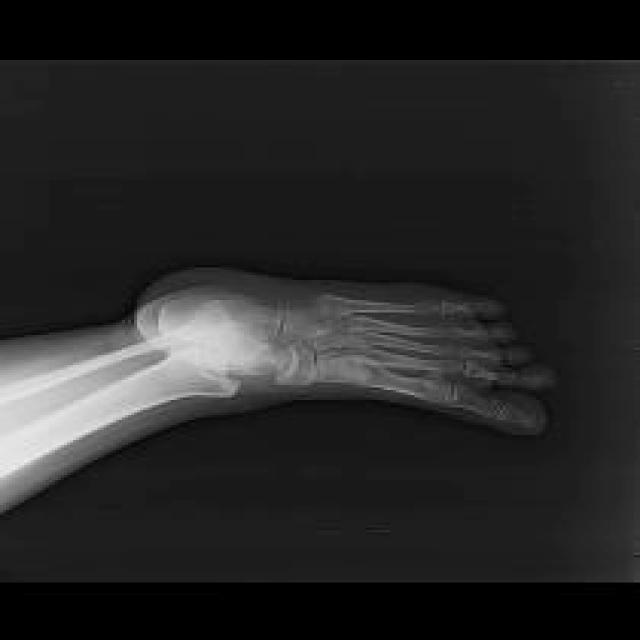normal: (0, 298, 556, 471)
